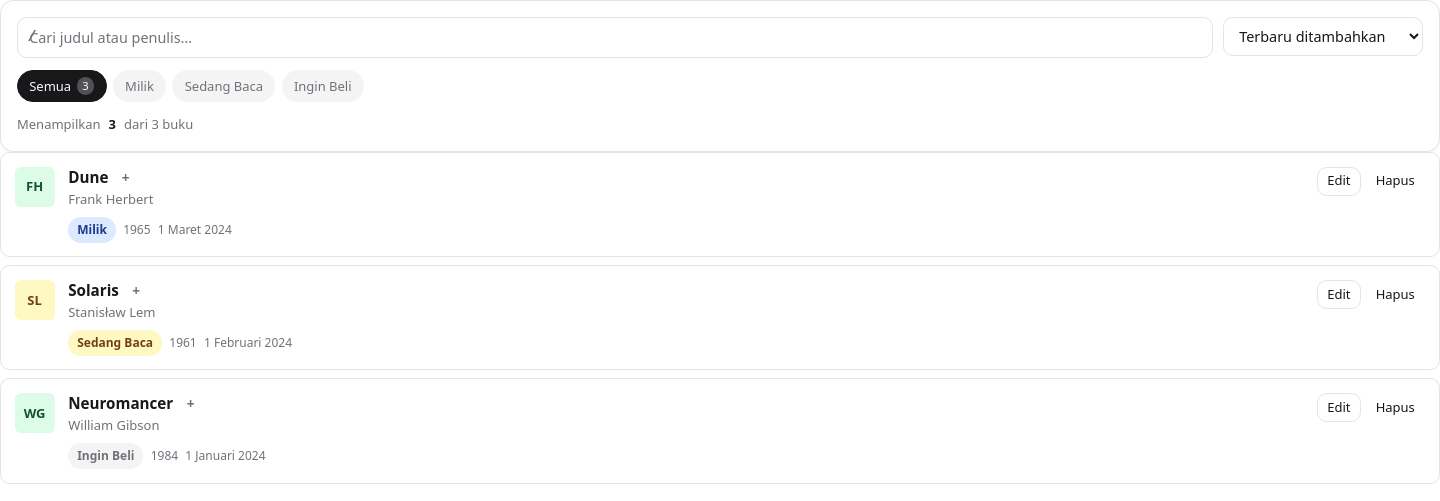
Test case: useBookFilter + BookFilter + BookList › menampilkan pesan saat pencarian tidak menemukan hasil
The width and height of the screenshot is (1440, 501).
Step 1. Type "zzzz" into the search field named "cari buku" → point(615, 38), box [17,17,1213,58]
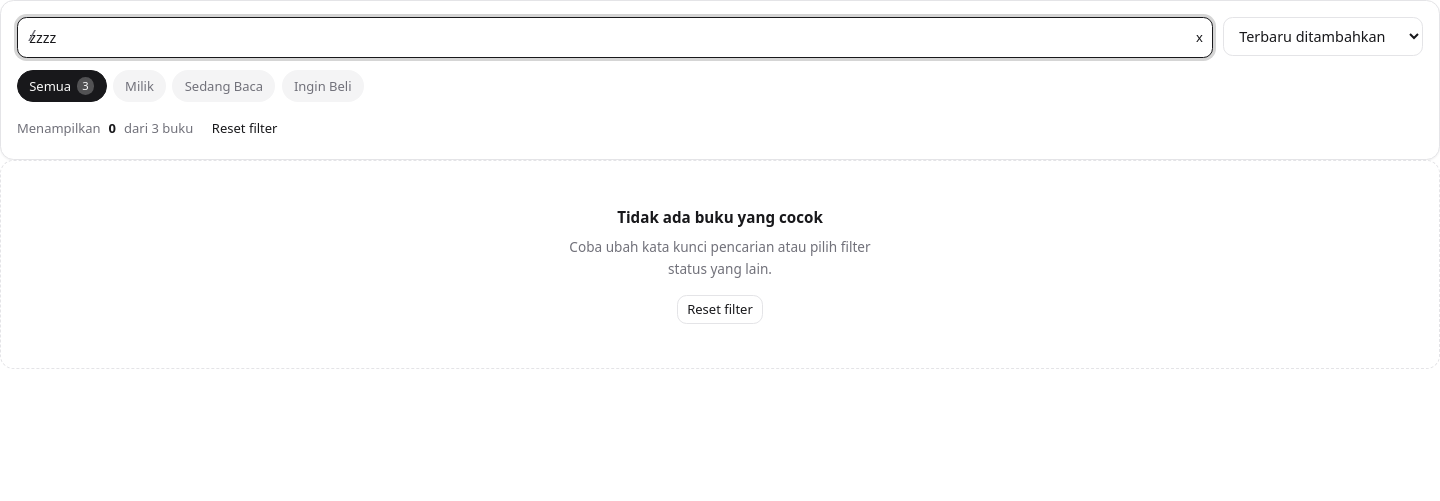
Now the text "Tidak ada buku yang cocok" is shown, box [617,205,823,230]
